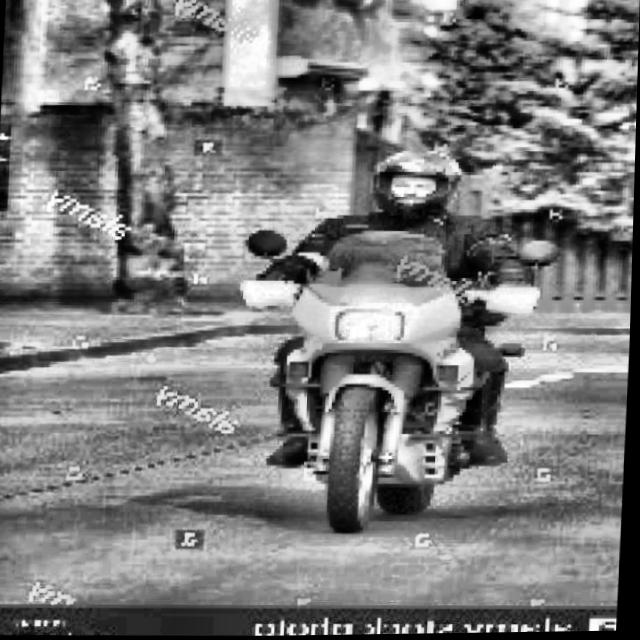motorcycle: (216, 212, 566, 549)
